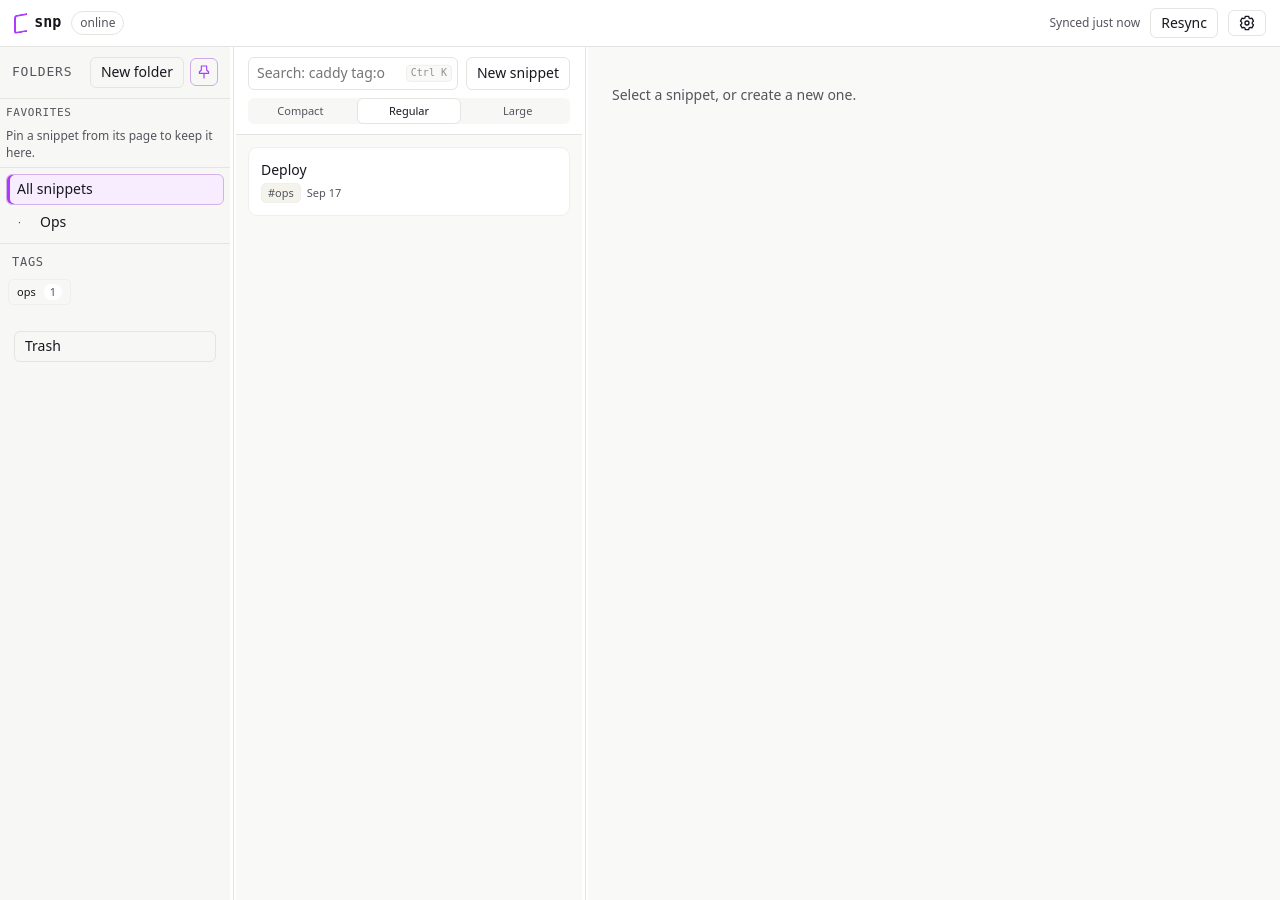
Test: reactive search › refreshes an untouched query after remote changes, including empty results
Click the text "Deploy" at (284, 170), box [261,160,307,180]
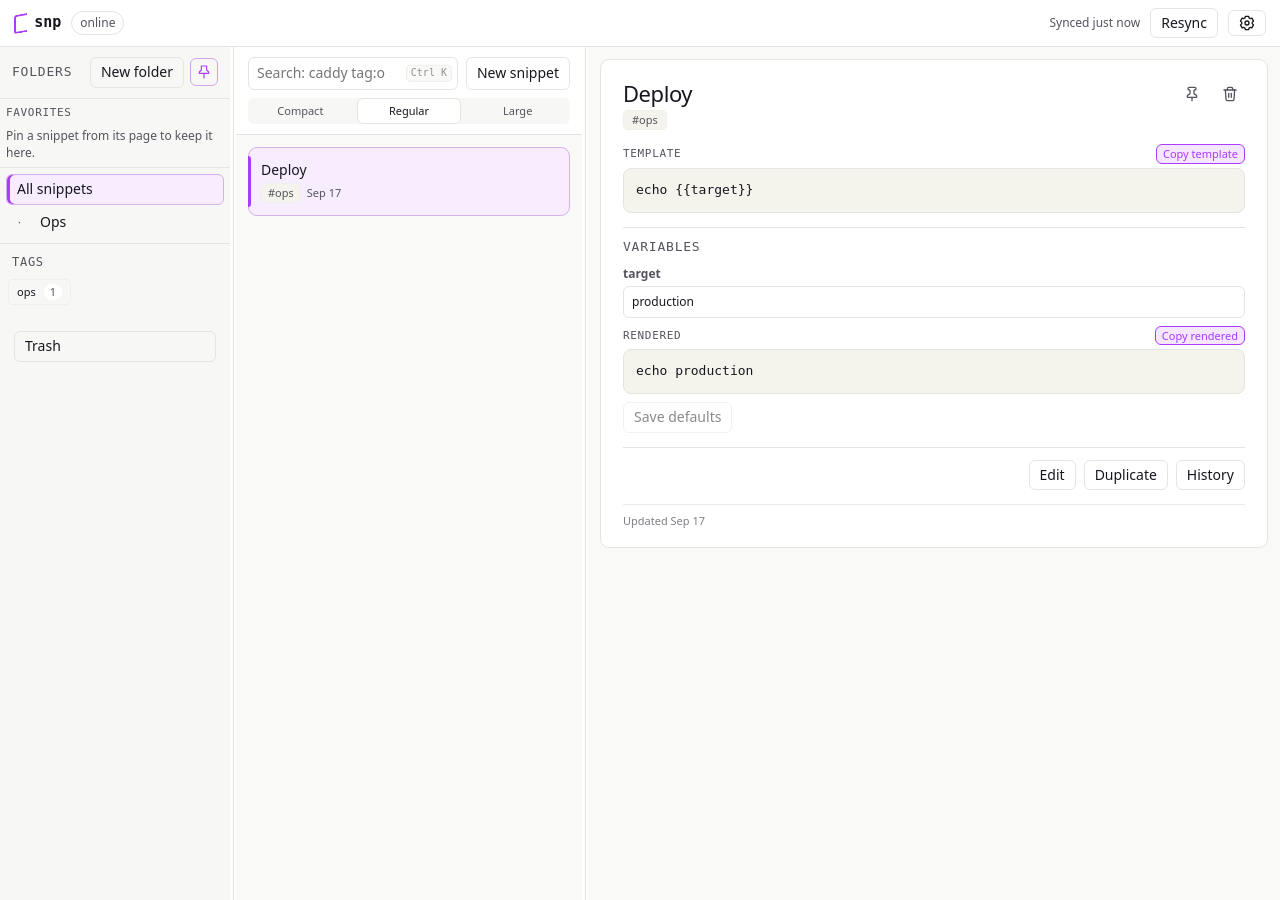
Type "Deploy" into the search field named "Search snippets" at (353, 73), box [248,57,458,90]
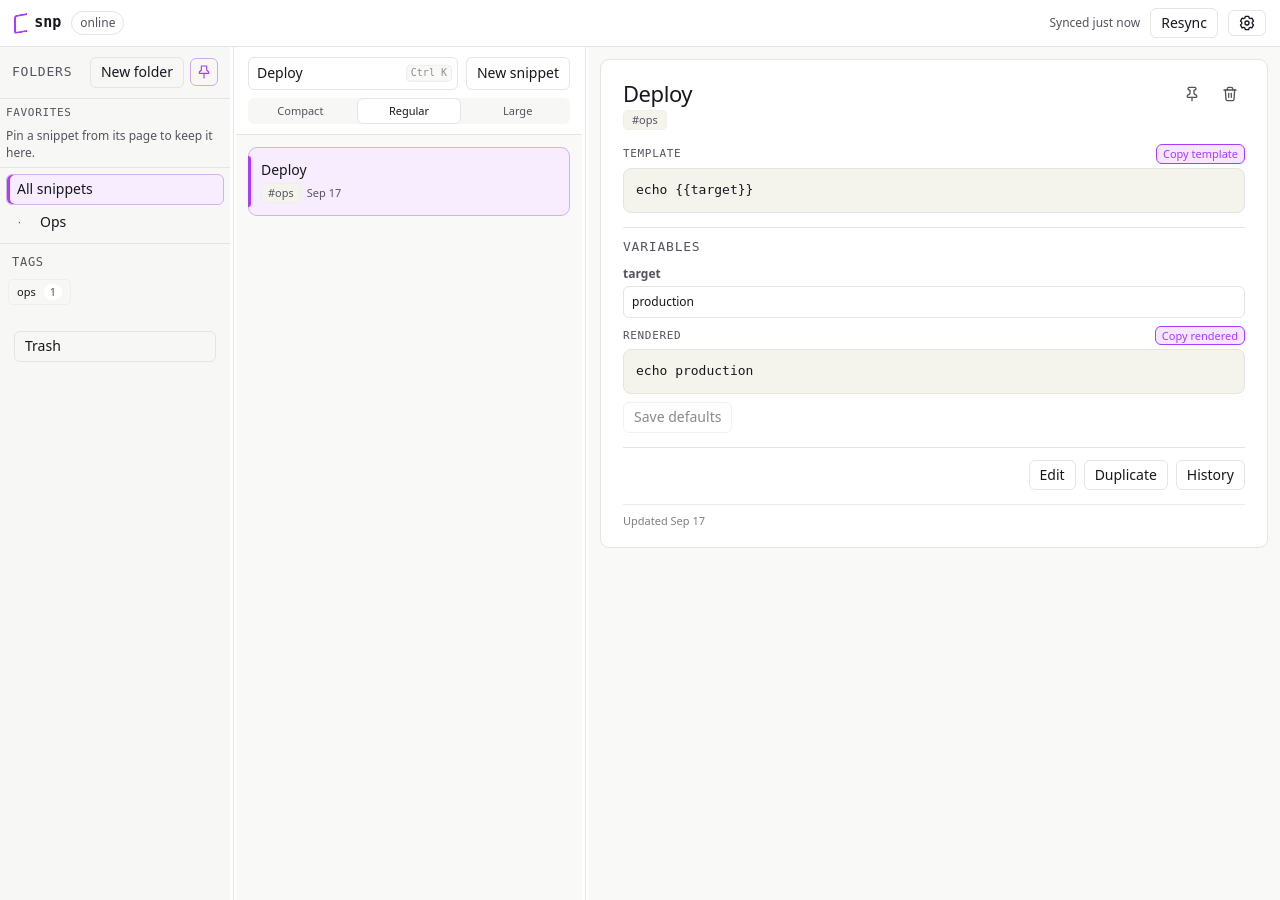
Click the button "Resync" at (1184, 23), box [1150,8,1218,38]
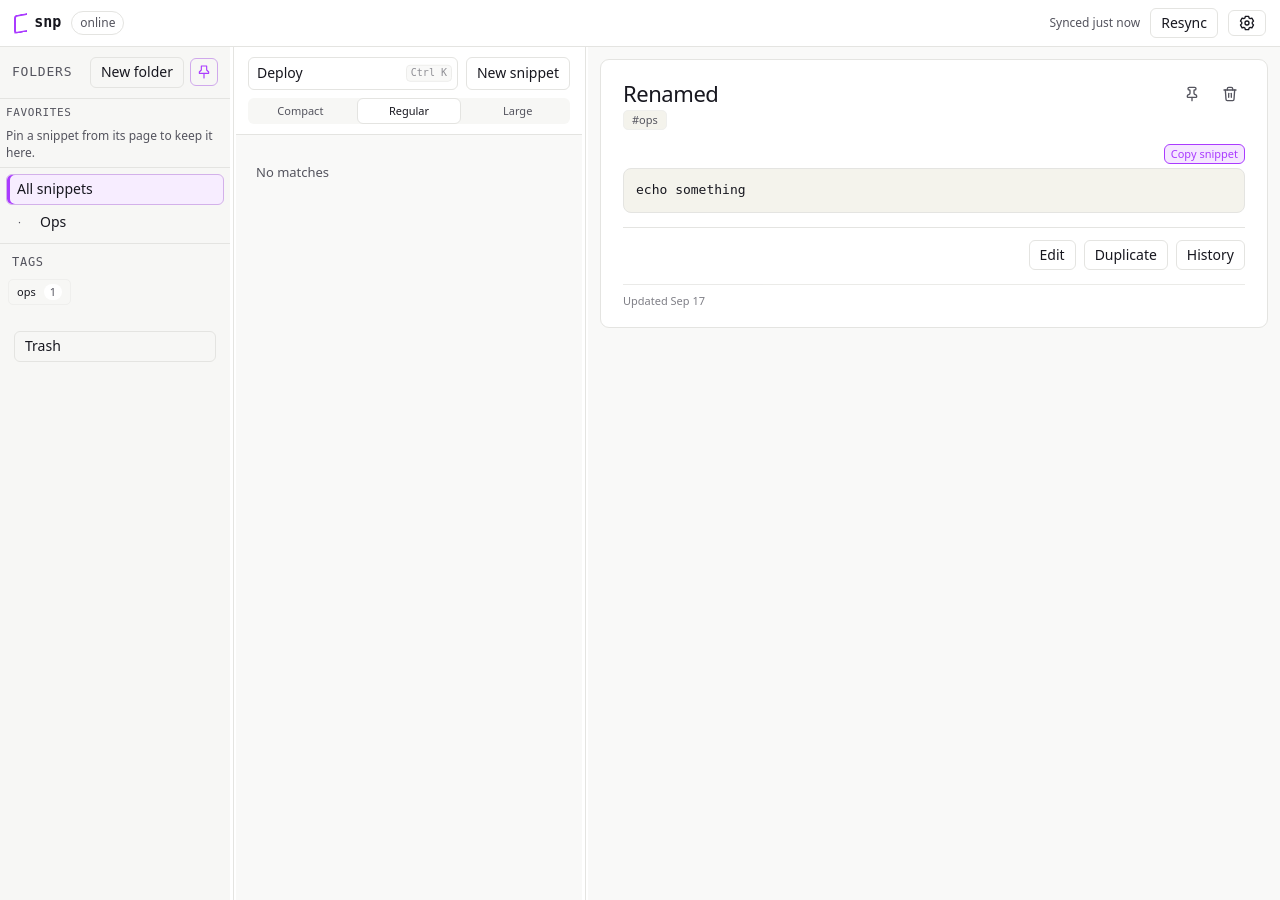
Now no buttons are shown
Click the button "Resync" at (1184, 23), box [1150,8,1218,38]
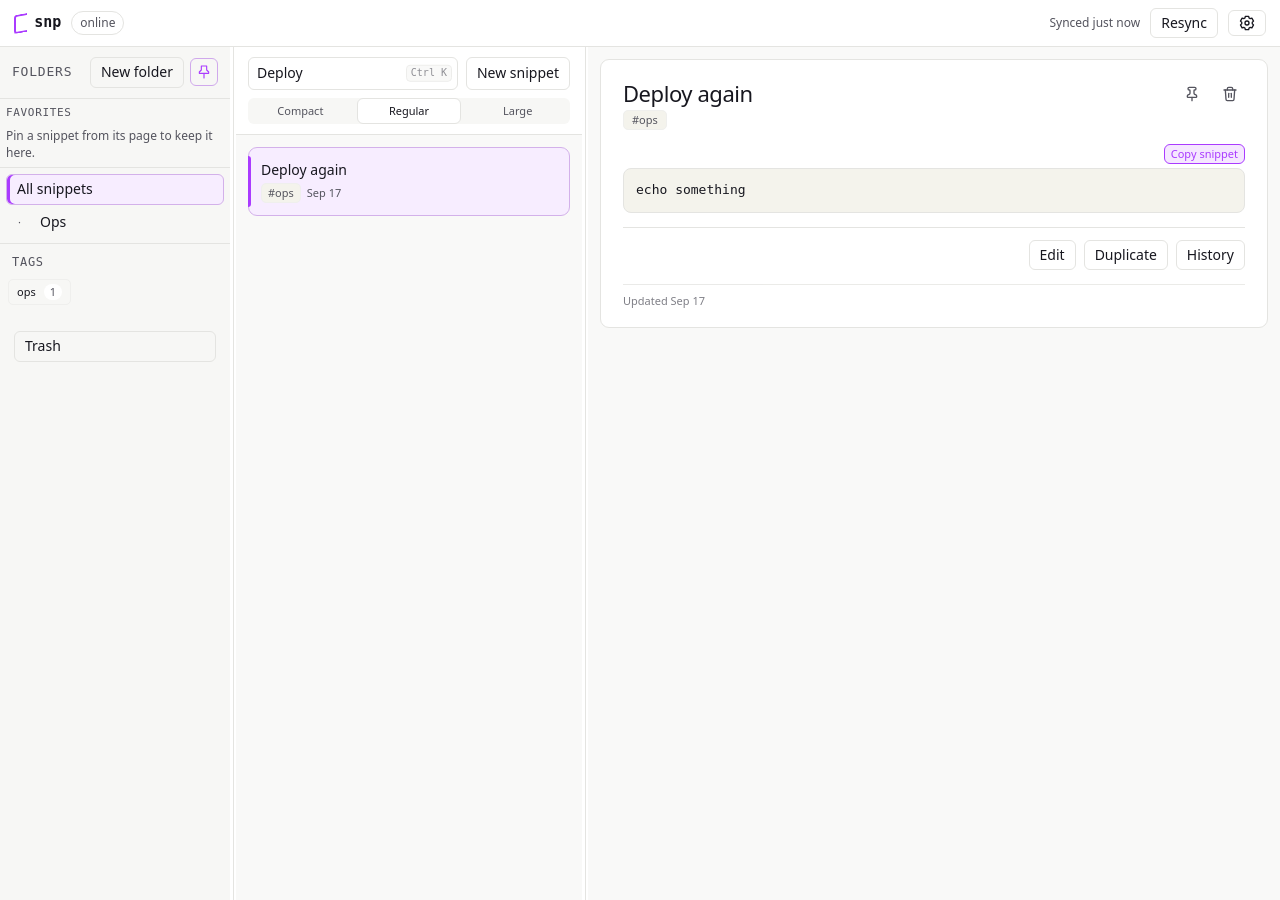
Now the text with class "title" reads "Deploy again", box [261,160,347,178]
